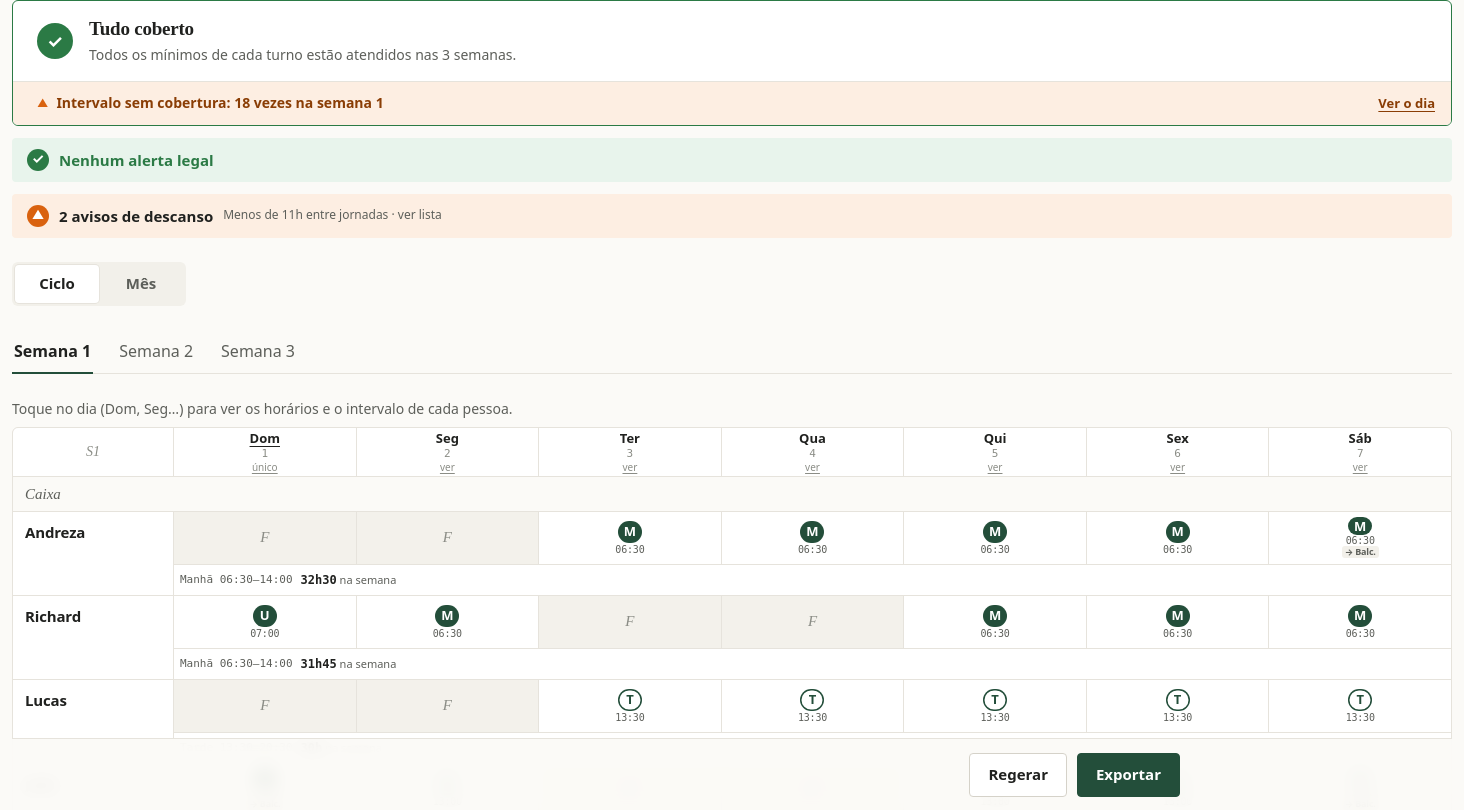
Test: Visão Mês › trocar de mês recalcula as semanas
Click the button "Mês" at (141, 284), box [99,265,183,303]
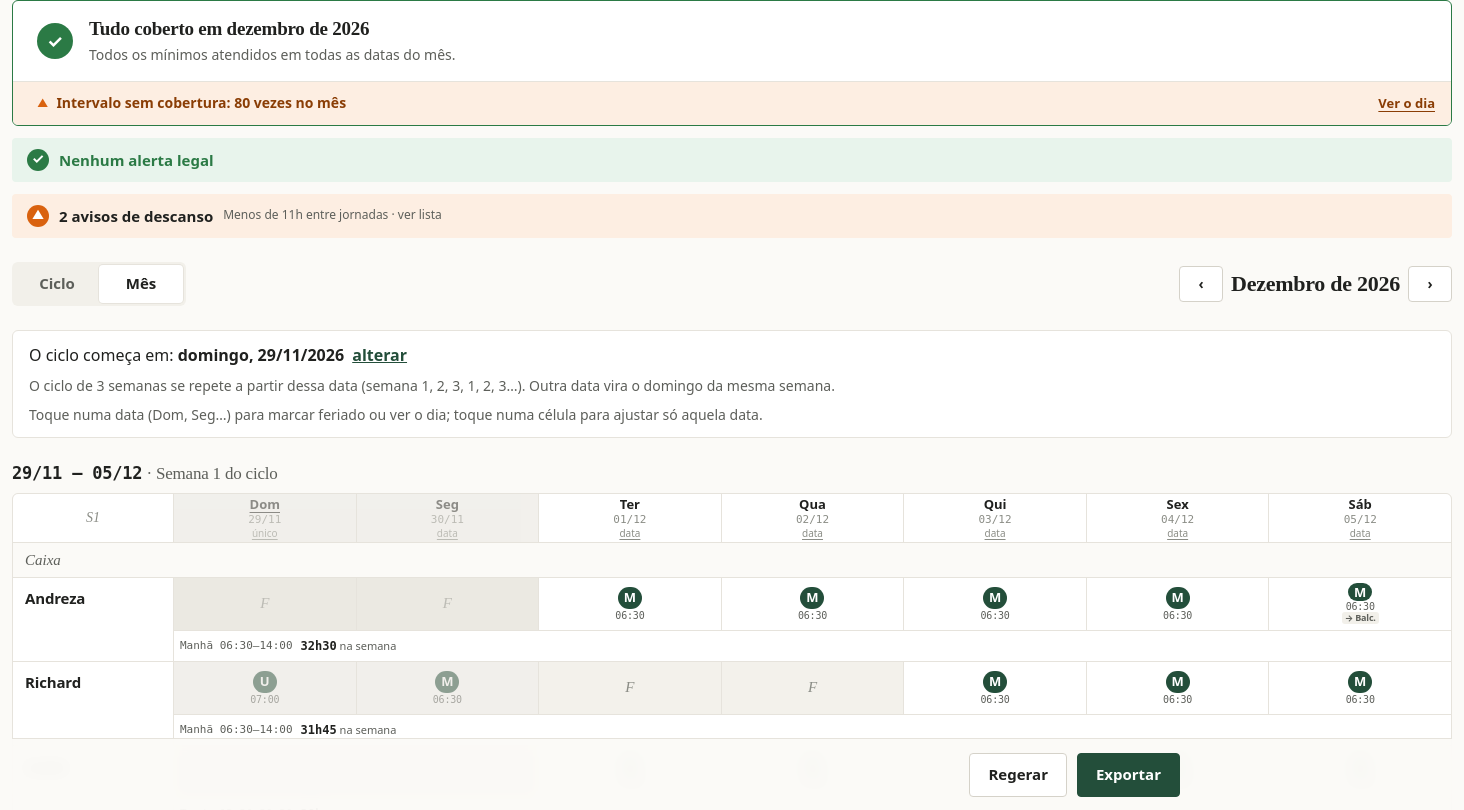
Click the button named "Próximo mês" at (1430, 284), box [1408,266,1452,302]
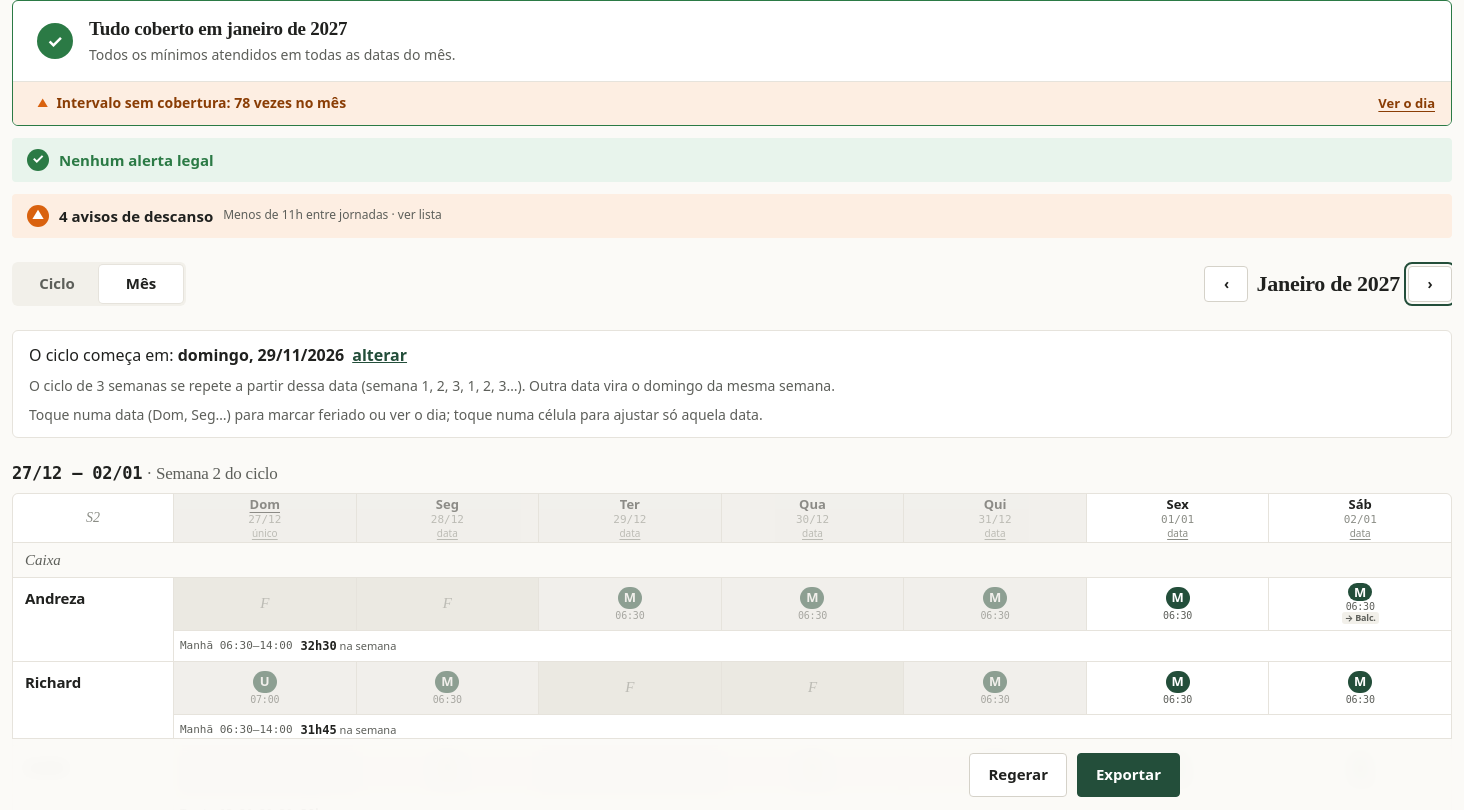
Expected: the heading "27/12 – 02/01 · Semana 2 do ciclo" is shown, [12,463,278,483]
Expected: the heading "Janeiro de 2027" is shown, [1256,271,1400,296]
Click the button named "Mês anterior" at (1226, 284), box [1204,266,1248,302]
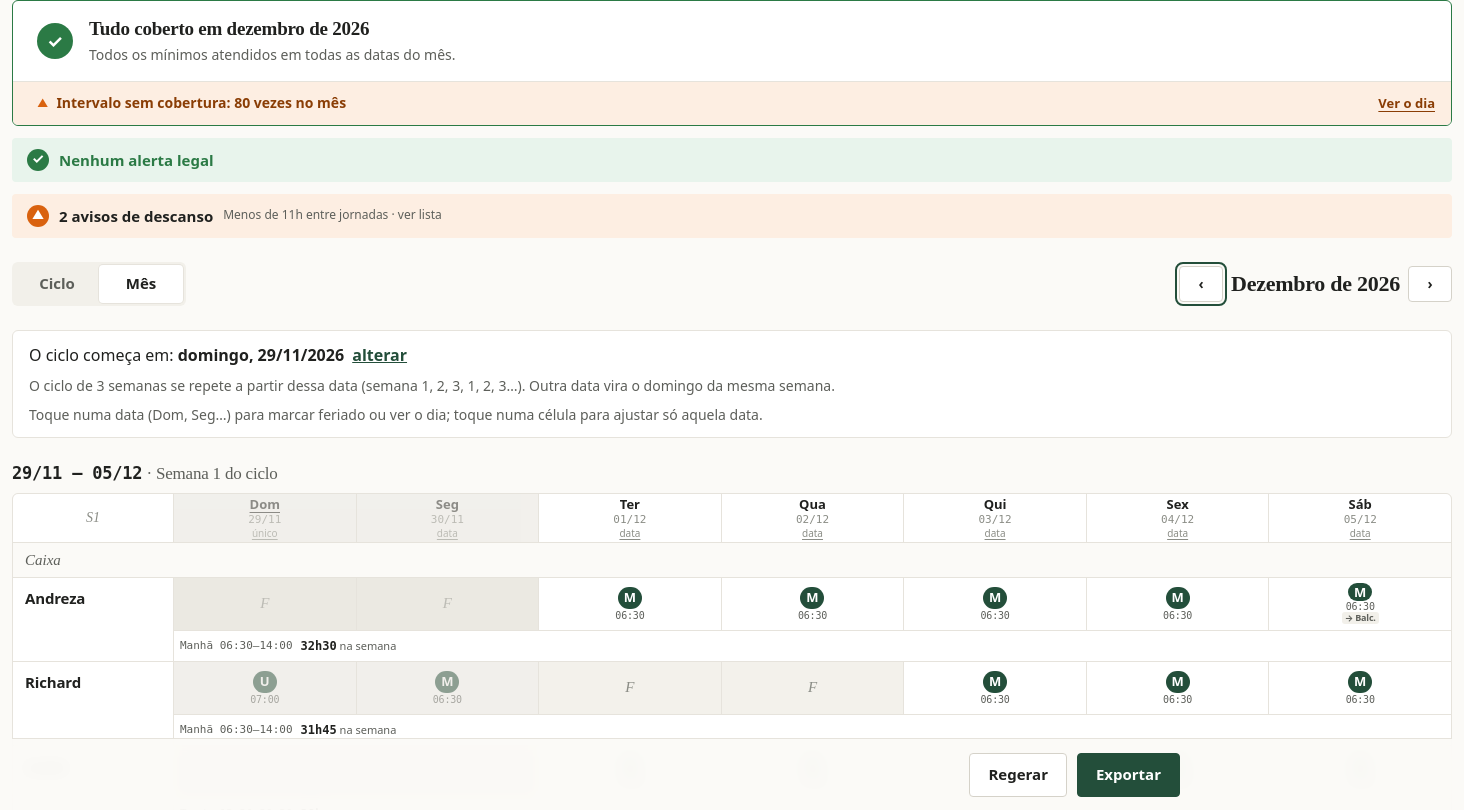
Click the button named "Mês anterior" at (1201, 284), box [1179,266,1223,302]
(page scrolled)
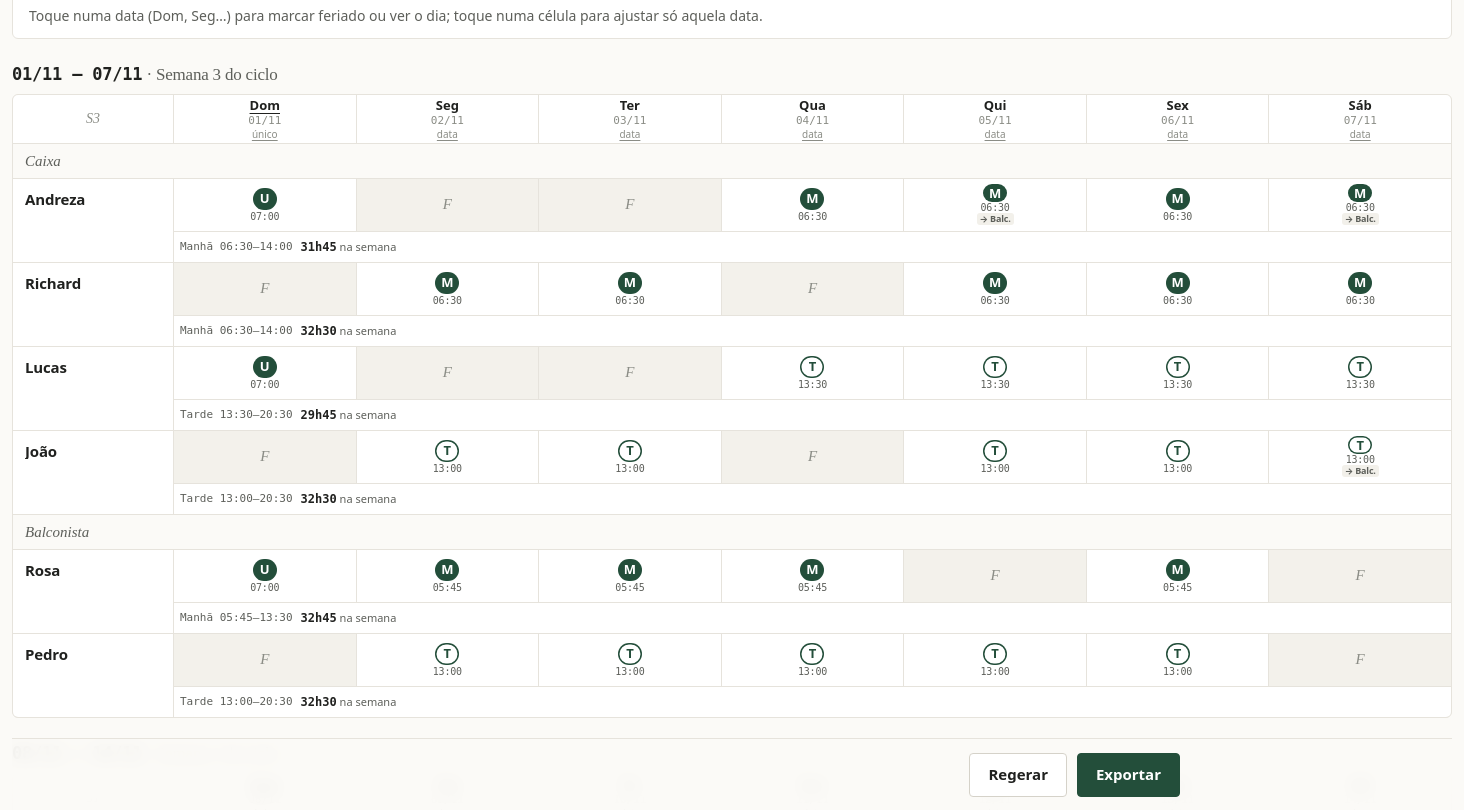
Expected: the table named "Escala de 01/11 a 07/11" is shown
